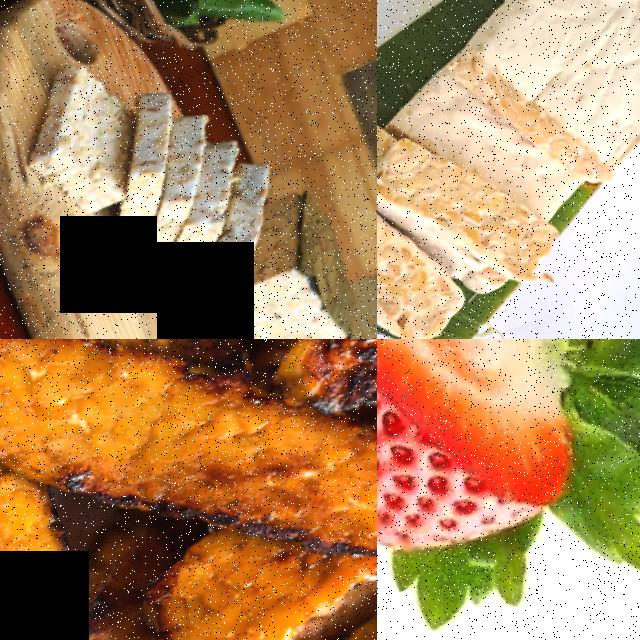strawberry: (377, 339, 632, 627)
tempeh: (411, 0, 640, 229), (377, 107, 556, 331), (0, 59, 134, 191), (177, 255, 339, 339), (377, 163, 453, 339)
